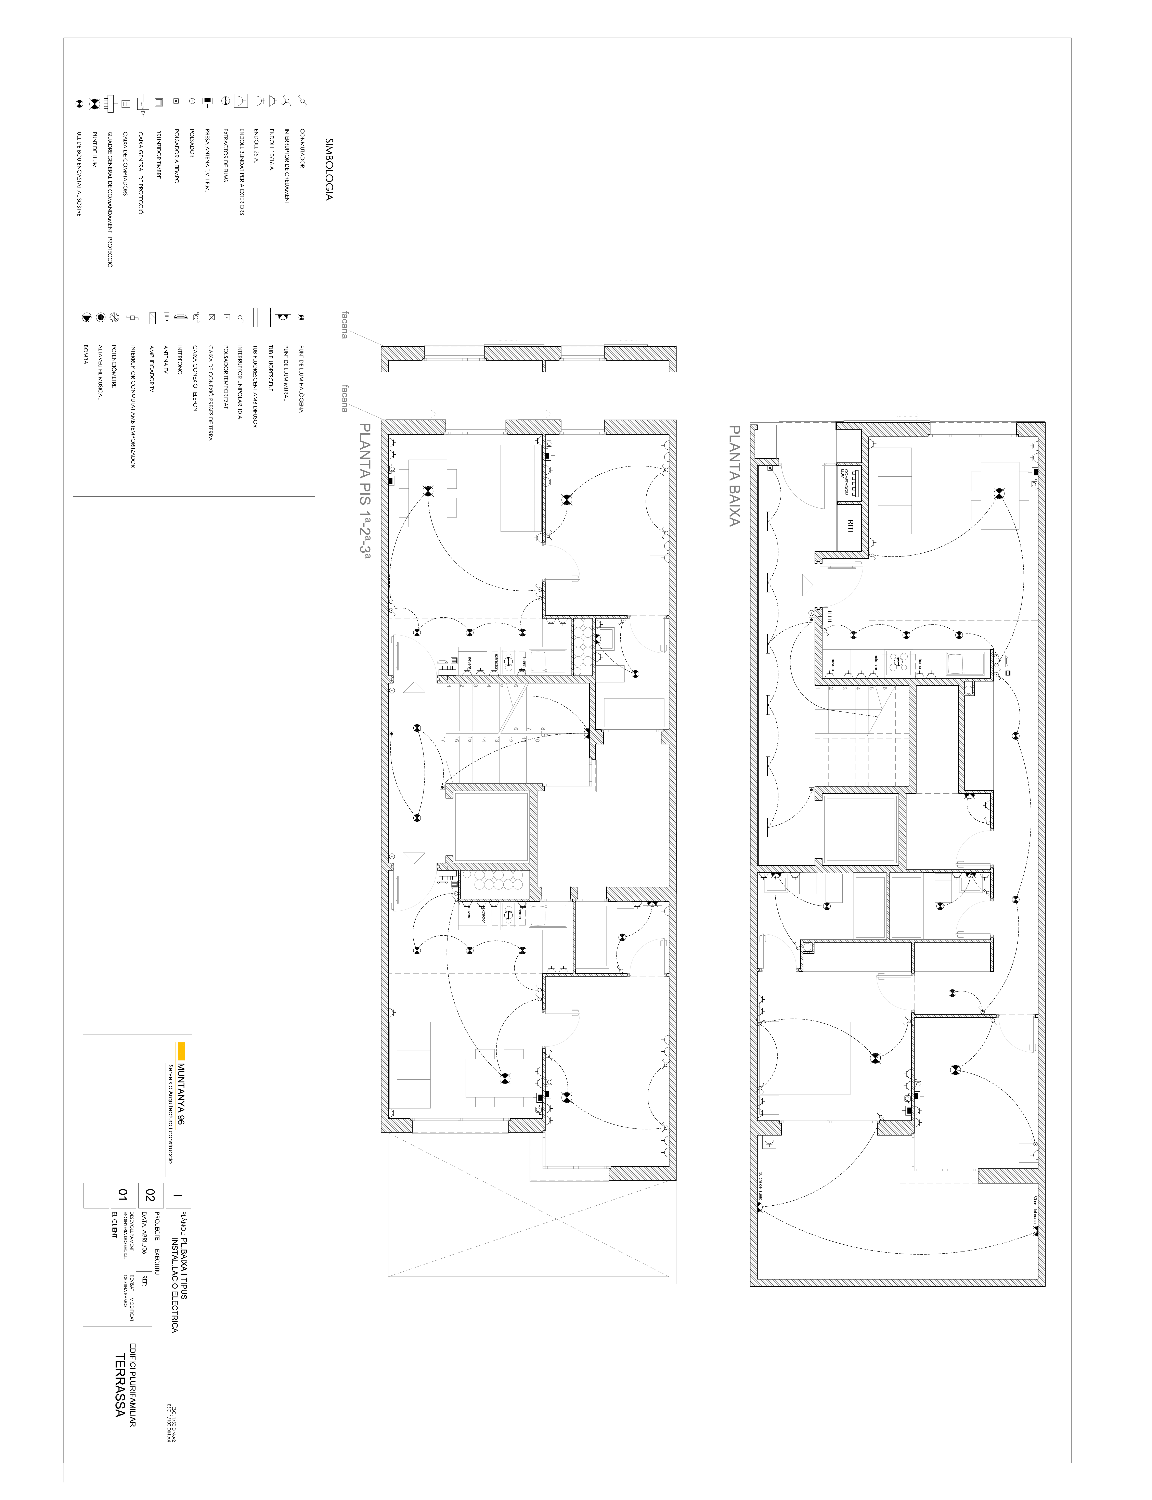door: (776, 462, 829, 510)
window: (442, 419, 509, 437), (560, 417, 607, 435)
